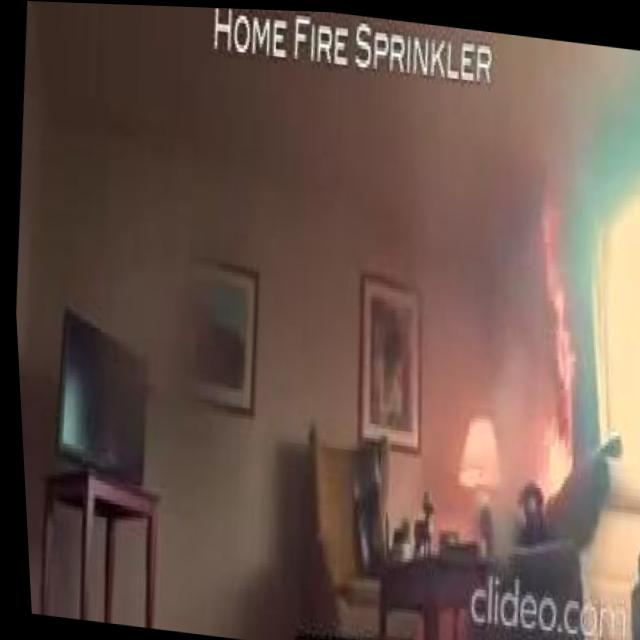fire: (513, 167, 591, 405), (524, 403, 574, 495)
